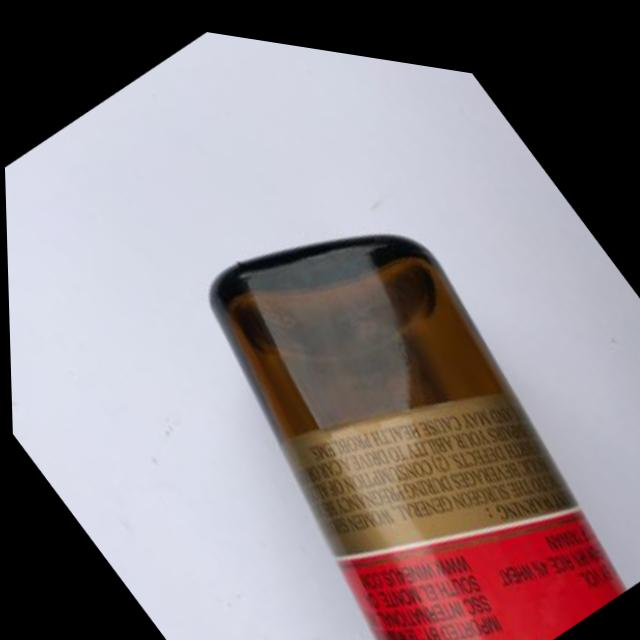glass: (62, 48, 640, 640)
